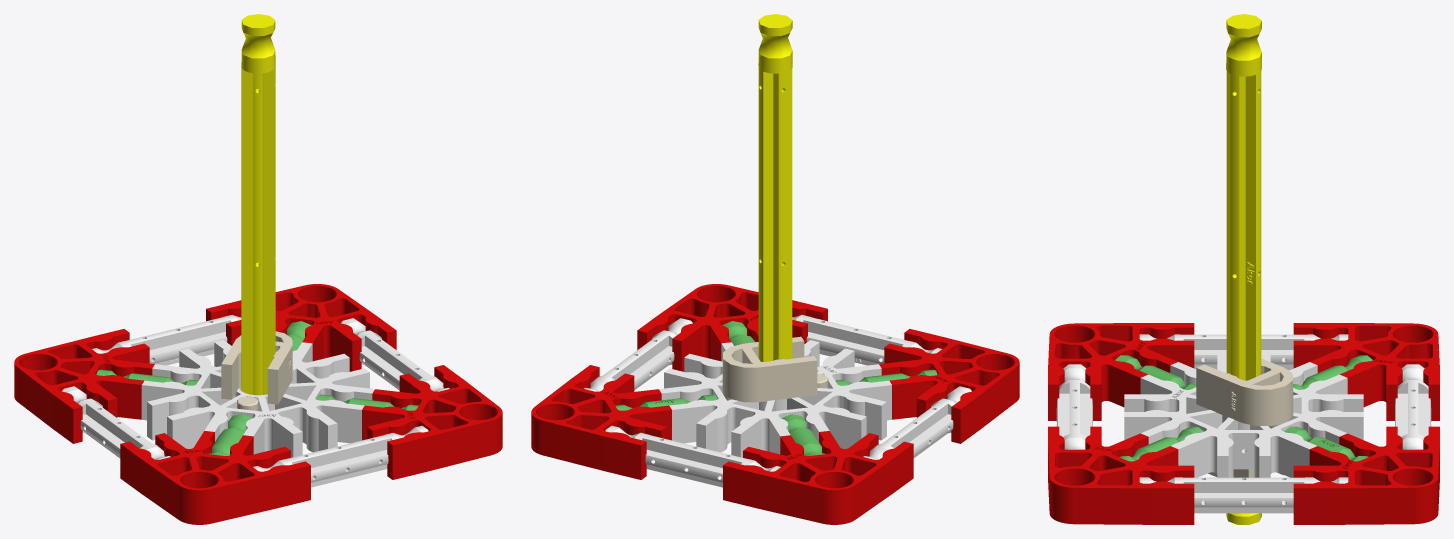
The model's file is Spin.glb.
The picture shows the model from 3 angles, left to right: view 1: azimuth 30°, elevation 25°; view 2: azimuth 150°, elevation 25°; view 3: azimuth 270°, elevation 25°; orthographic projection. The views are drawn at different scales.
Parts seen in each view (by area): view 1: Trompo; view 2: Trompo; view 3: Trompo.
Part boxes in pixels (left/top/right/bottom): Trompo: left=14, top=14, right=502, bottom=524; Trompo: left=531, top=14, right=1019, bottom=524; Trompo: left=1048, top=14, right=1439, bottom=524.
Bounding box in the file's own units: 4.25 × 5.94 × 4.25.
